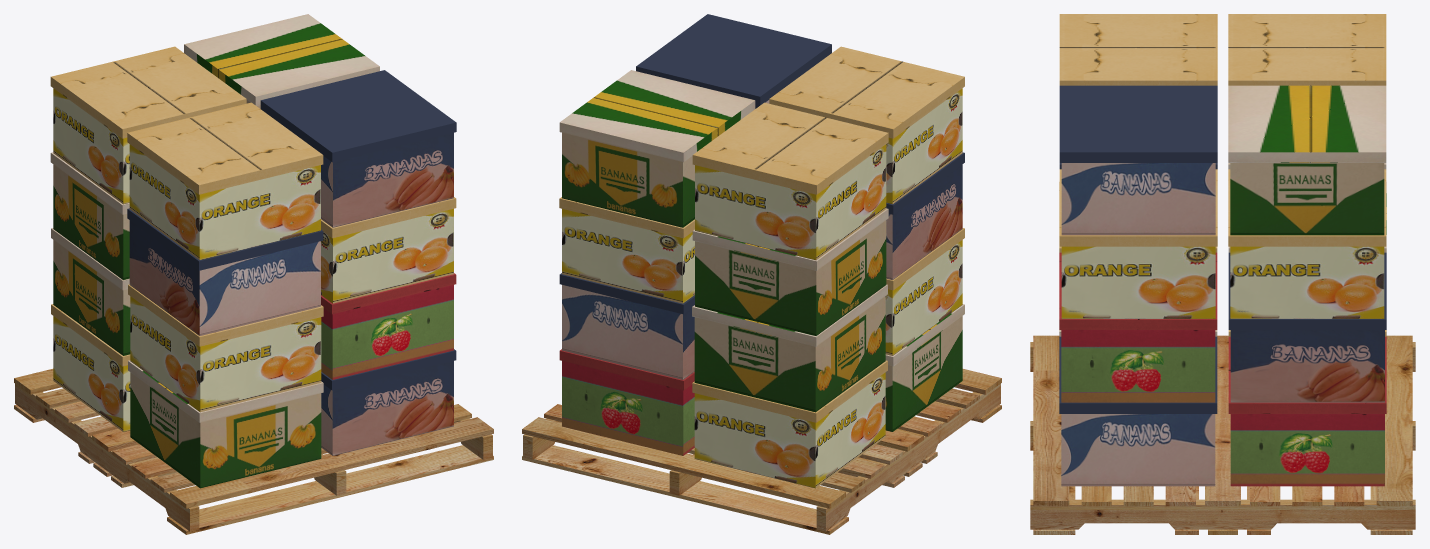
File: Cardboard_boxGroup02a.FBX
3 views of the same model, side by side, from view 1: azimuth 30°, elevation 25°; view 2: azimuth 150°, elevation 25°; view 3: azimuth 270°, elevation 25° (orthographic). The views are drawn at different scales.
Parts seen in each view (by area): view 1: Cardboard_boxGroup02a2, Cardboard_boxGroup02a1, Cardboard_boxG02a; view 2: Cardboard_boxGroup02a2, Cardboard_boxGroup02a1, Cardboard_boxG02a; view 3: Cardboard_boxGroup02a1, Cardboard_boxGroup02a2, Cardboard_boxG02a.
Boxes of the visible parts, box(x1,y1,x2,y2) form: Cardboard_boxGroup02a2: box(50, 14, 456, 488); Cardboard_boxGroup02a1: box(127, 70, 456, 455); Cardboard_boxG02a: box(14, 369, 493, 534); Cardboard_boxGroup02a2: box(559, 46, 964, 488); Cardboard_boxGroup02a1: box(559, 14, 964, 455); Cardboard_boxG02a: box(522, 369, 1001, 534); Cardboard_boxGroup02a1: box(1059, 85, 1386, 486); Cardboard_boxGroup02a2: box(1059, 14, 1386, 336); Cardboard_boxG02a: box(1030, 335, 1415, 534).
Bounding box in the file's own units: 2.16 × 2.24 × 2.12.
